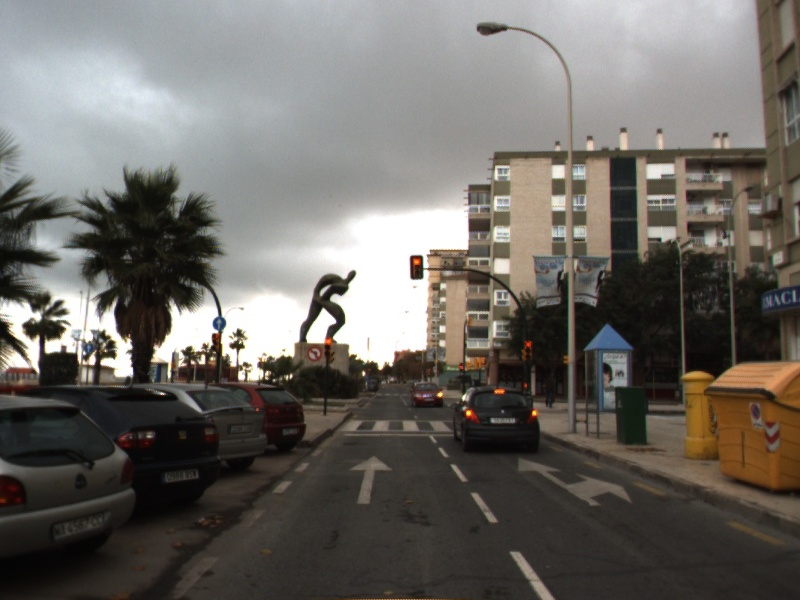STRAIGHT: (347, 454, 394, 506)
STRAIGHT_RIGHT: (515, 455, 634, 508)
